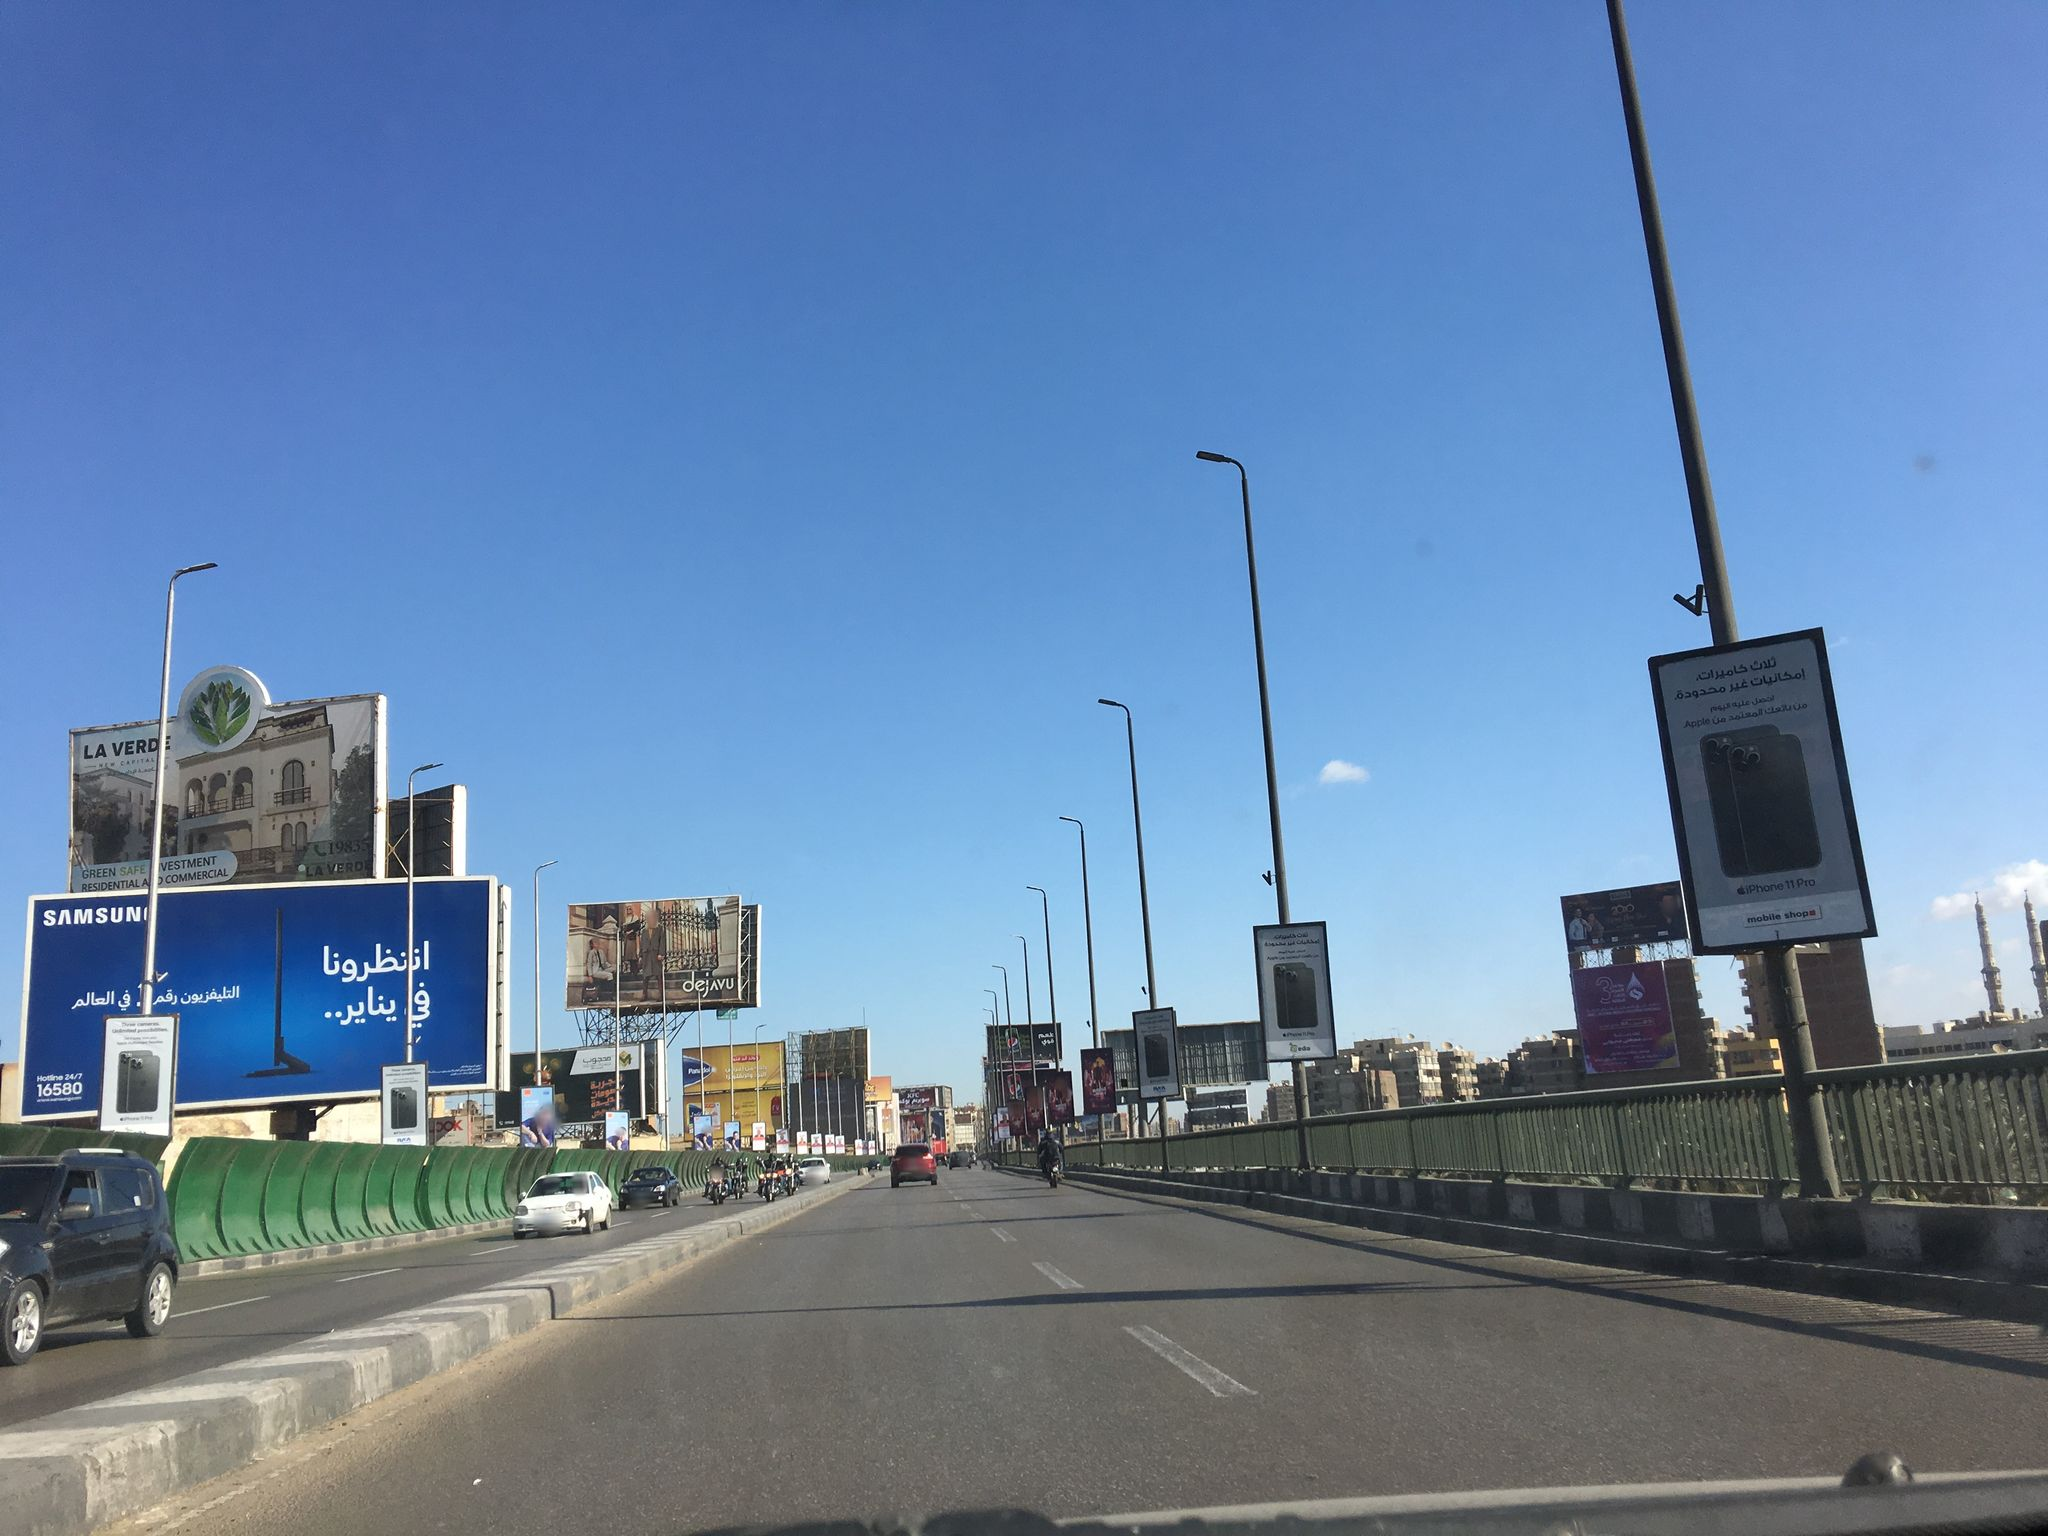car: (0, 1146, 182, 1365), (511, 1171, 613, 1236), (618, 1167, 684, 1208), (889, 1142, 939, 1187), (797, 1157, 830, 1184), (947, 1150, 972, 1168)
motorcycle: (755, 1154, 785, 1202), (1035, 1150, 1068, 1189), (701, 1162, 731, 1204), (726, 1162, 748, 1199), (779, 1158, 801, 1194)
